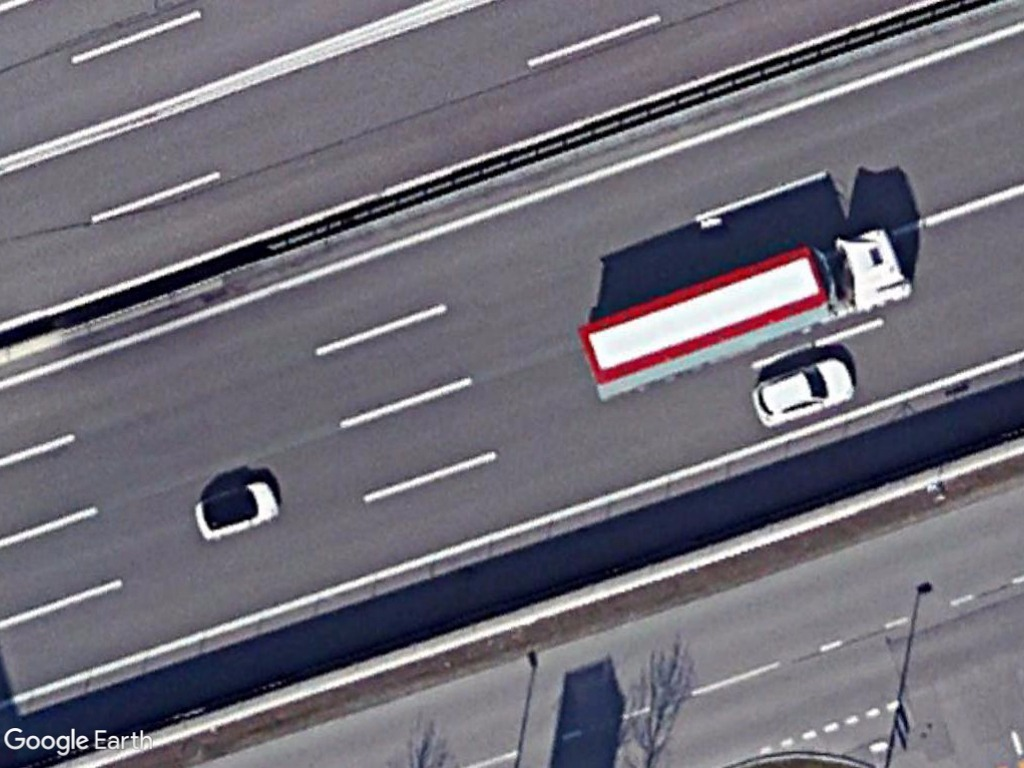car: (750, 354, 856, 428), (190, 477, 279, 543)
longvehicle: (576, 223, 908, 403)
